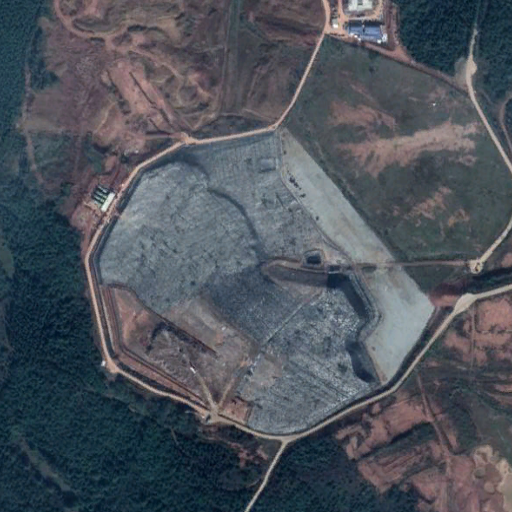lf: (88, 131, 436, 439)
